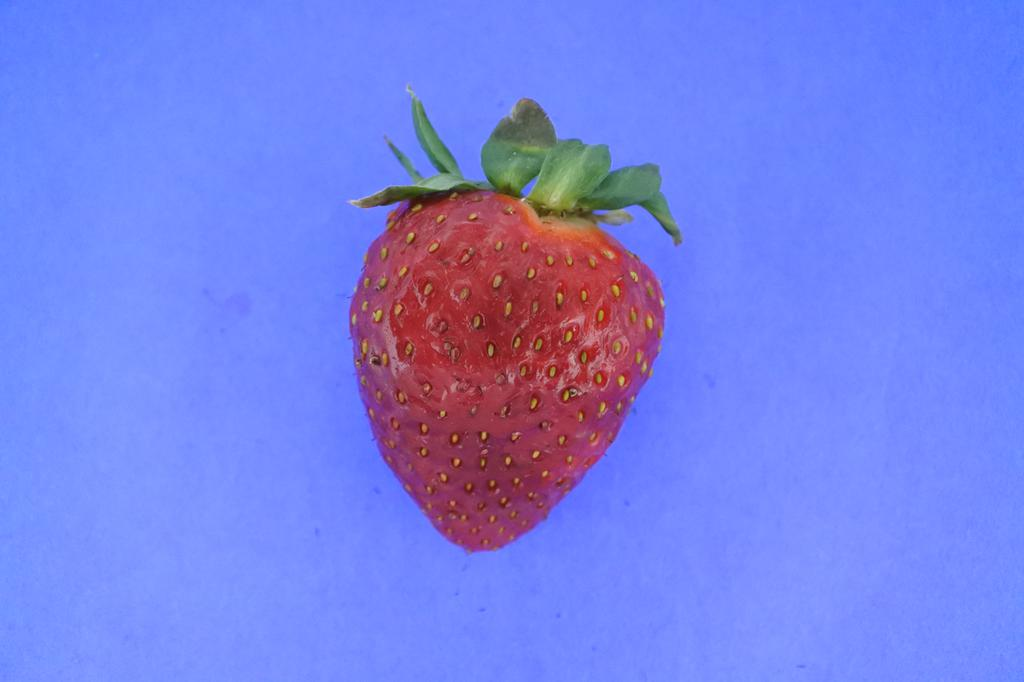red strawberry: (347, 94, 682, 552)
